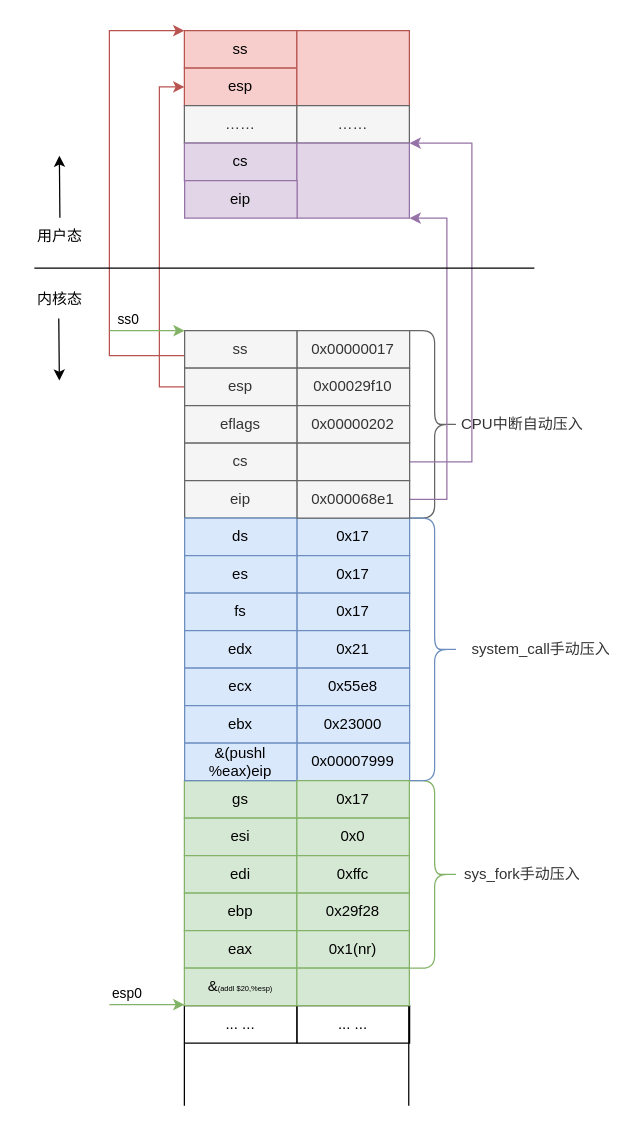
The diagram is 644 pixels wide and 1129 high, and some of its shapes have lost their labels. The shapes that lost their labels are listed below. From the top down, each one's centre as x and y in pixels, then its label:
(x=352, y=67): 堆栈段
(x=352, y=180): 代码数据段
(x=353, y=461): 0x0000000f
